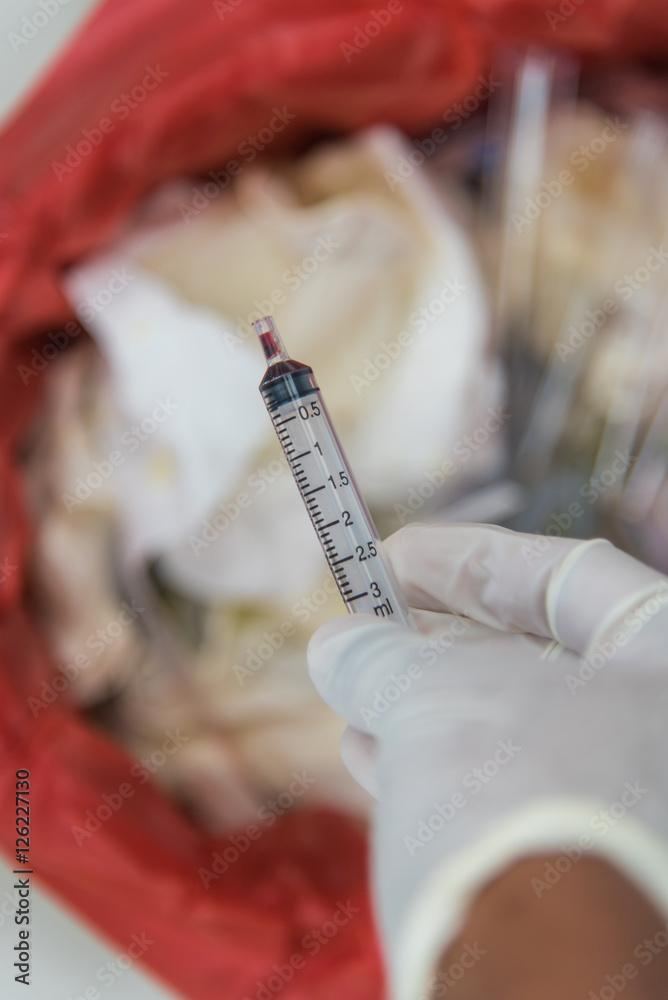Glove: (309, 524, 667, 999)
Syringe: (253, 317, 413, 626)
